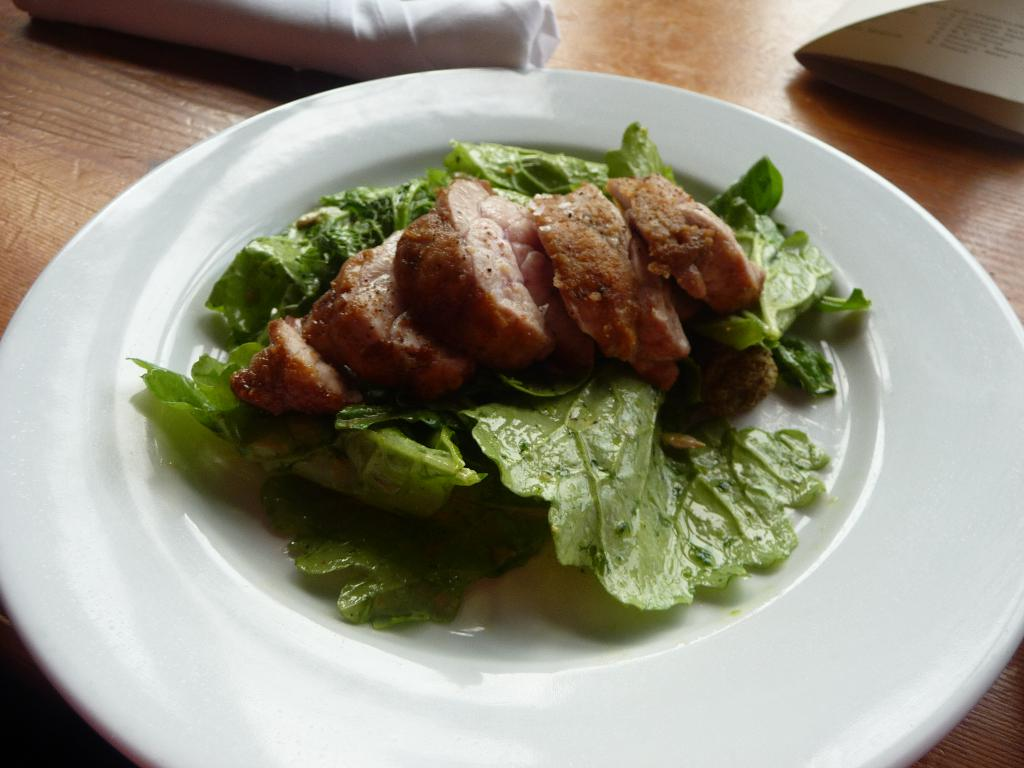salad: (123, 109, 898, 650)
